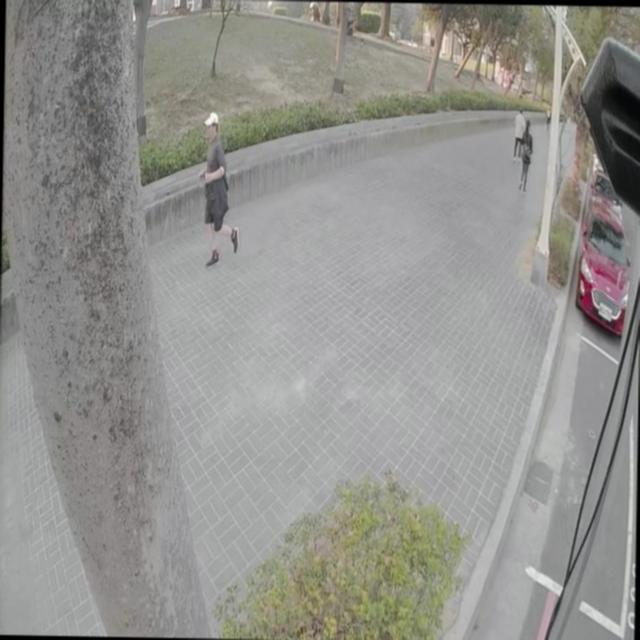person: (195, 108, 238, 266), (519, 120, 533, 190), (512, 104, 525, 154)
